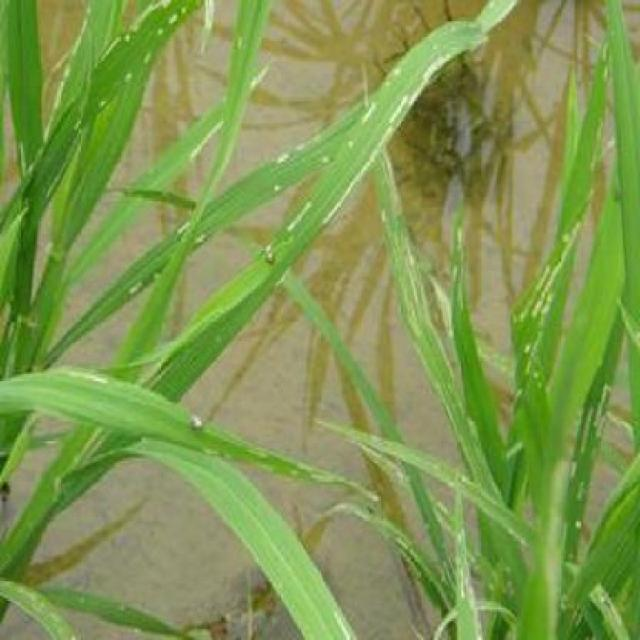rice-bug: (262, 239, 276, 264), (192, 412, 202, 433)
